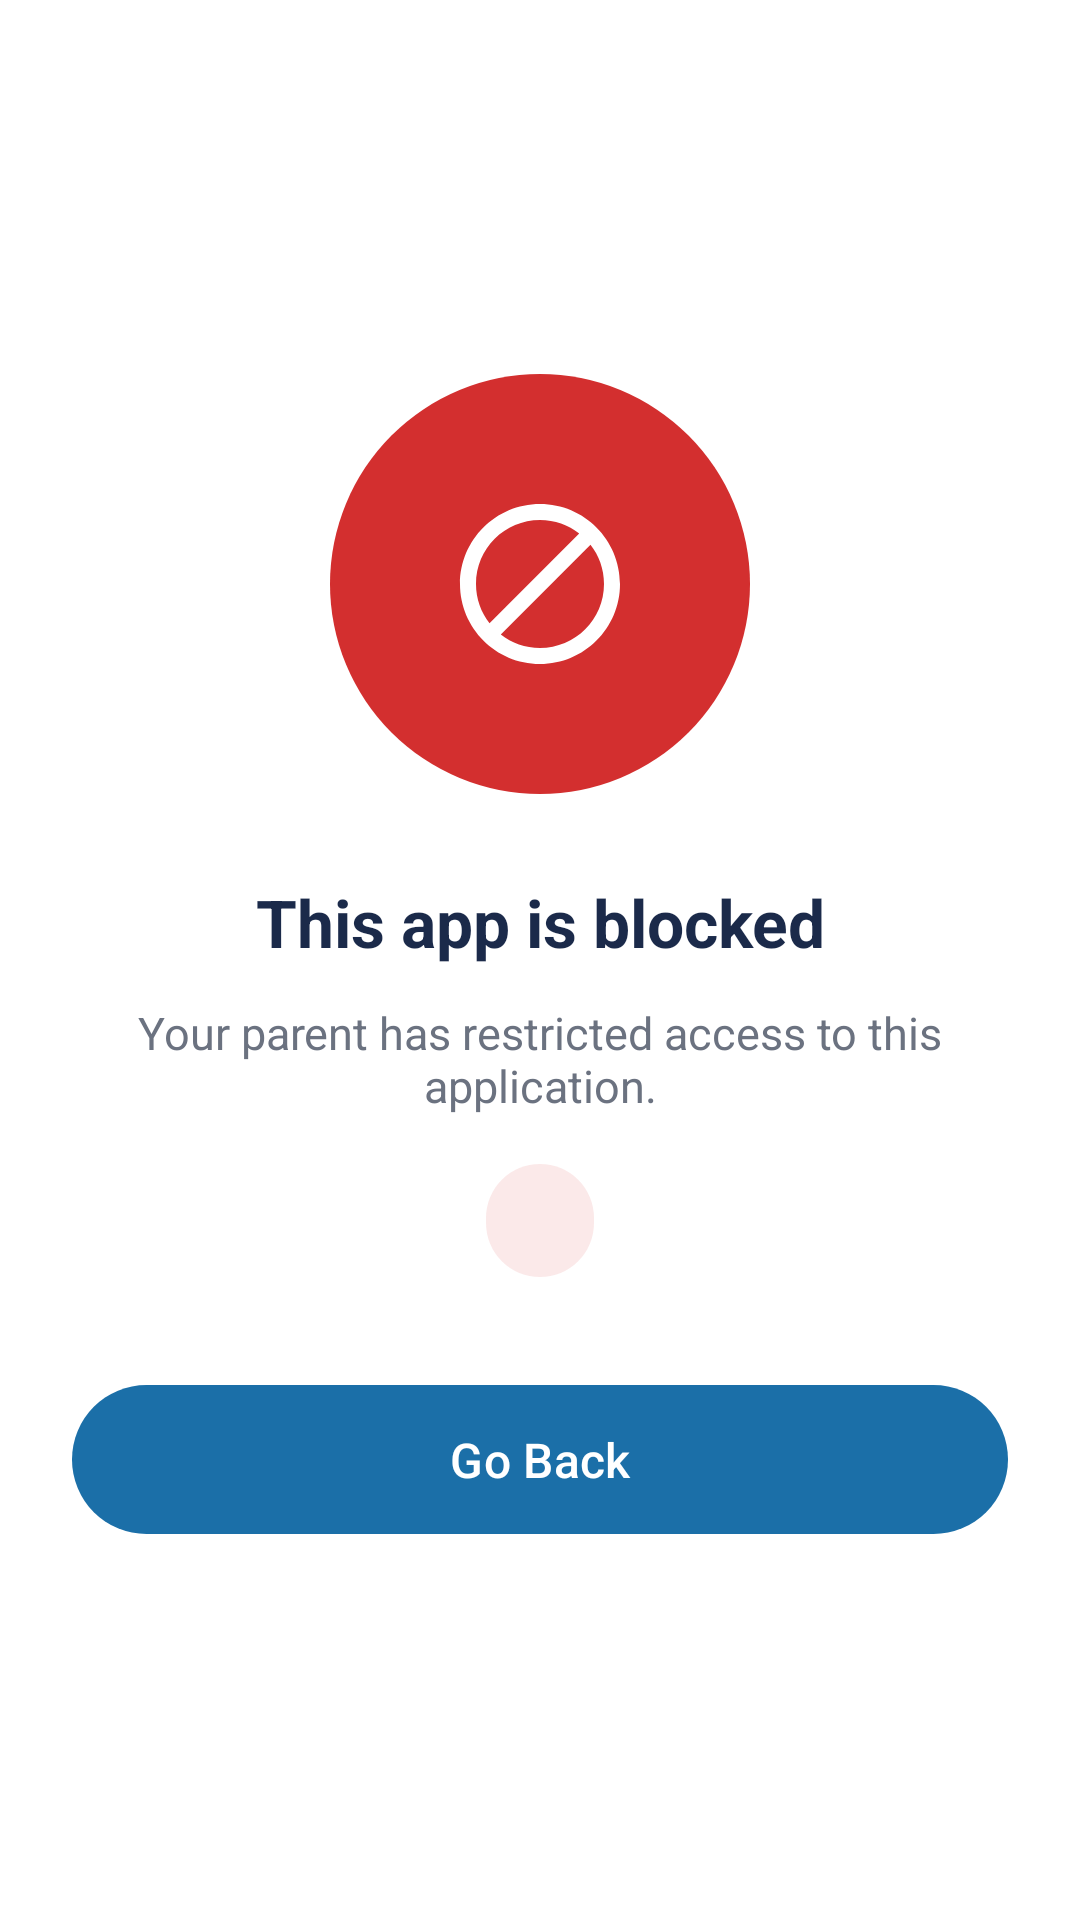

Point at icon controls on the screen. Image size 1080×1920, points as point (x, y).
blocked: point (540, 584)
